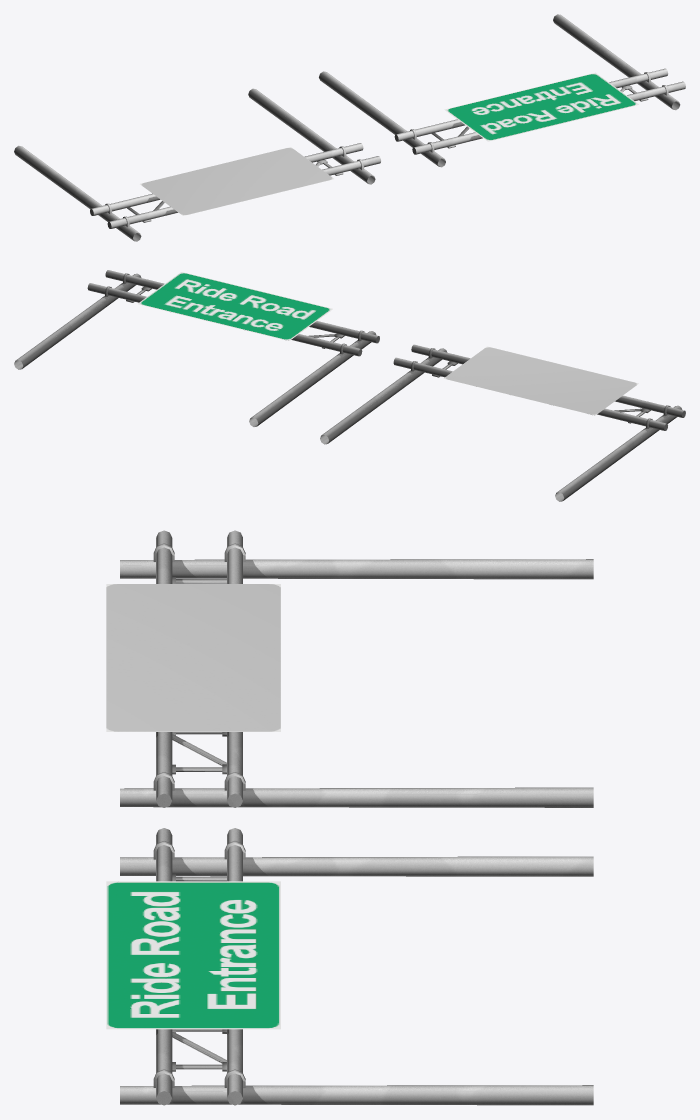
File: ride_road_signs.obj
3 views of the same model, one above another, from view 1: azimuth 30°, elevation 25°; view 2: azimuth 150°, elevation 25°; view 3: azimuth 270°, elevation 25° (orthographic). The views are drawn at different scales.
Parts seen in each view (by area): view 1: ride_road_signs001; view 2: ride_road_signs001; view 3: ride_road_signs001.
Part boxes in pixels (bbox=[...]): ride_road_signs001: bbox=[14, 14, 685, 241]; ride_road_signs001: bbox=[14, 270, 685, 501]; ride_road_signs001: bbox=[106, 530, 593, 1105].
Bounding box in the file's own units: 49.32 × 1.5 × 18.13.
Materials: 2 (2 with a texture image).
